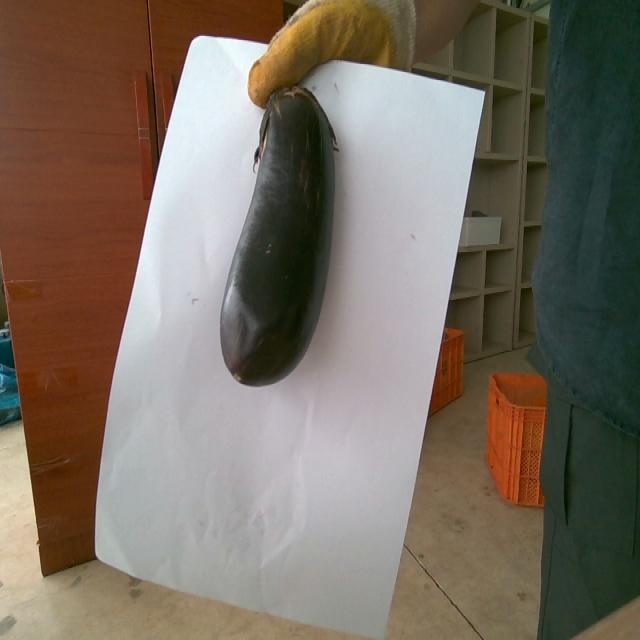Egg plant: (220, 87, 334, 385)
